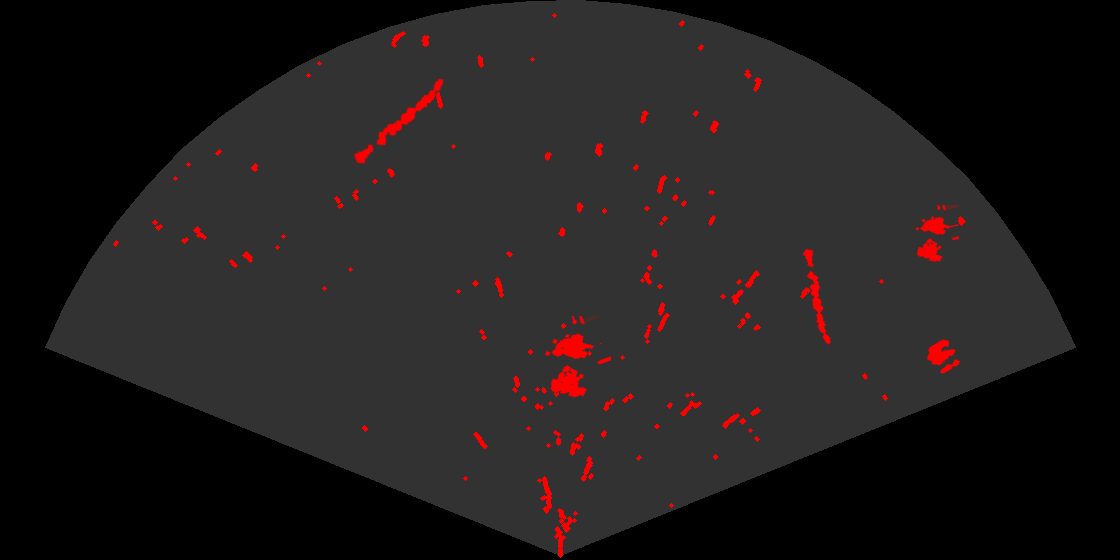ball: (925, 338, 962, 375)
cage: (544, 316, 611, 399), (914, 205, 959, 263)
chain: (352, 77, 445, 165), (801, 246, 832, 346)
